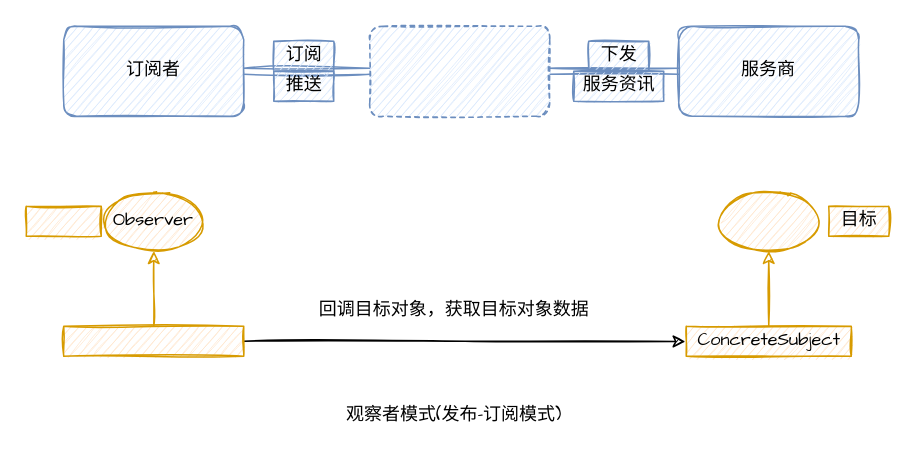
This 915x458 diagram has some shape labels left out. The centre of each missing label's shape, as x and y in pixels:
ConcreteObserver: the point at 153,340
Subject: the point at 768,220
观察者: the point at 63,220
运营商: the point at 459,70
